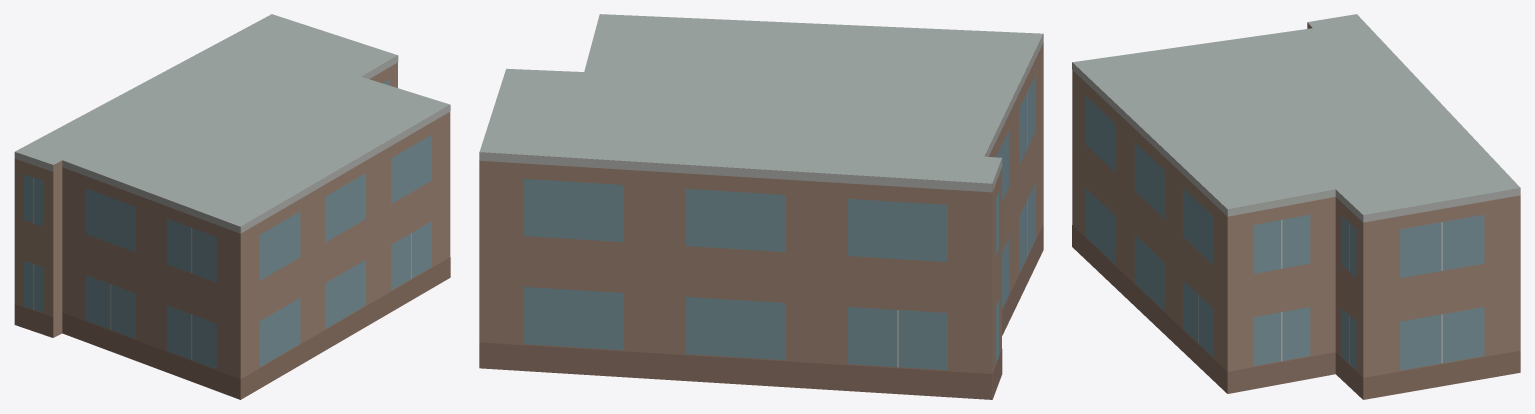
The model's file is survey-upis-32688003.glb.
The picture shows the model from 3 angles, left to right: view 1: azimuth 30°, elevation 25°; view 2: azimuth 150°, elevation 25°; view 3: azimuth 270°, elevation 25°; orthographic projection. The views are drawn at different scales.
Parts seen in each view (by area): view 1: survey-upis-32688003.tmp; view 2: survey-upis-32688003.tmp; view 3: survey-upis-32688003.tmp.
Part boxes in pixels (x1,y1,x2,y2): survey-upis-32688003.tmp: (14, 14, 450, 399); survey-upis-32688003.tmp: (479, 14, 1043, 399); survey-upis-32688003.tmp: (1072, 14, 1520, 399).
Bounding box in the file's own units: 14.26 × 6.1 × 13.44.
